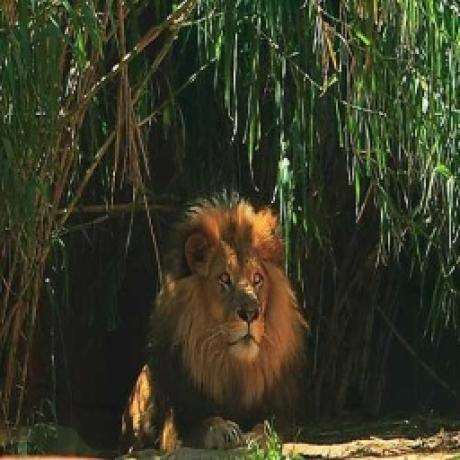Lion: (123, 193, 308, 449)
